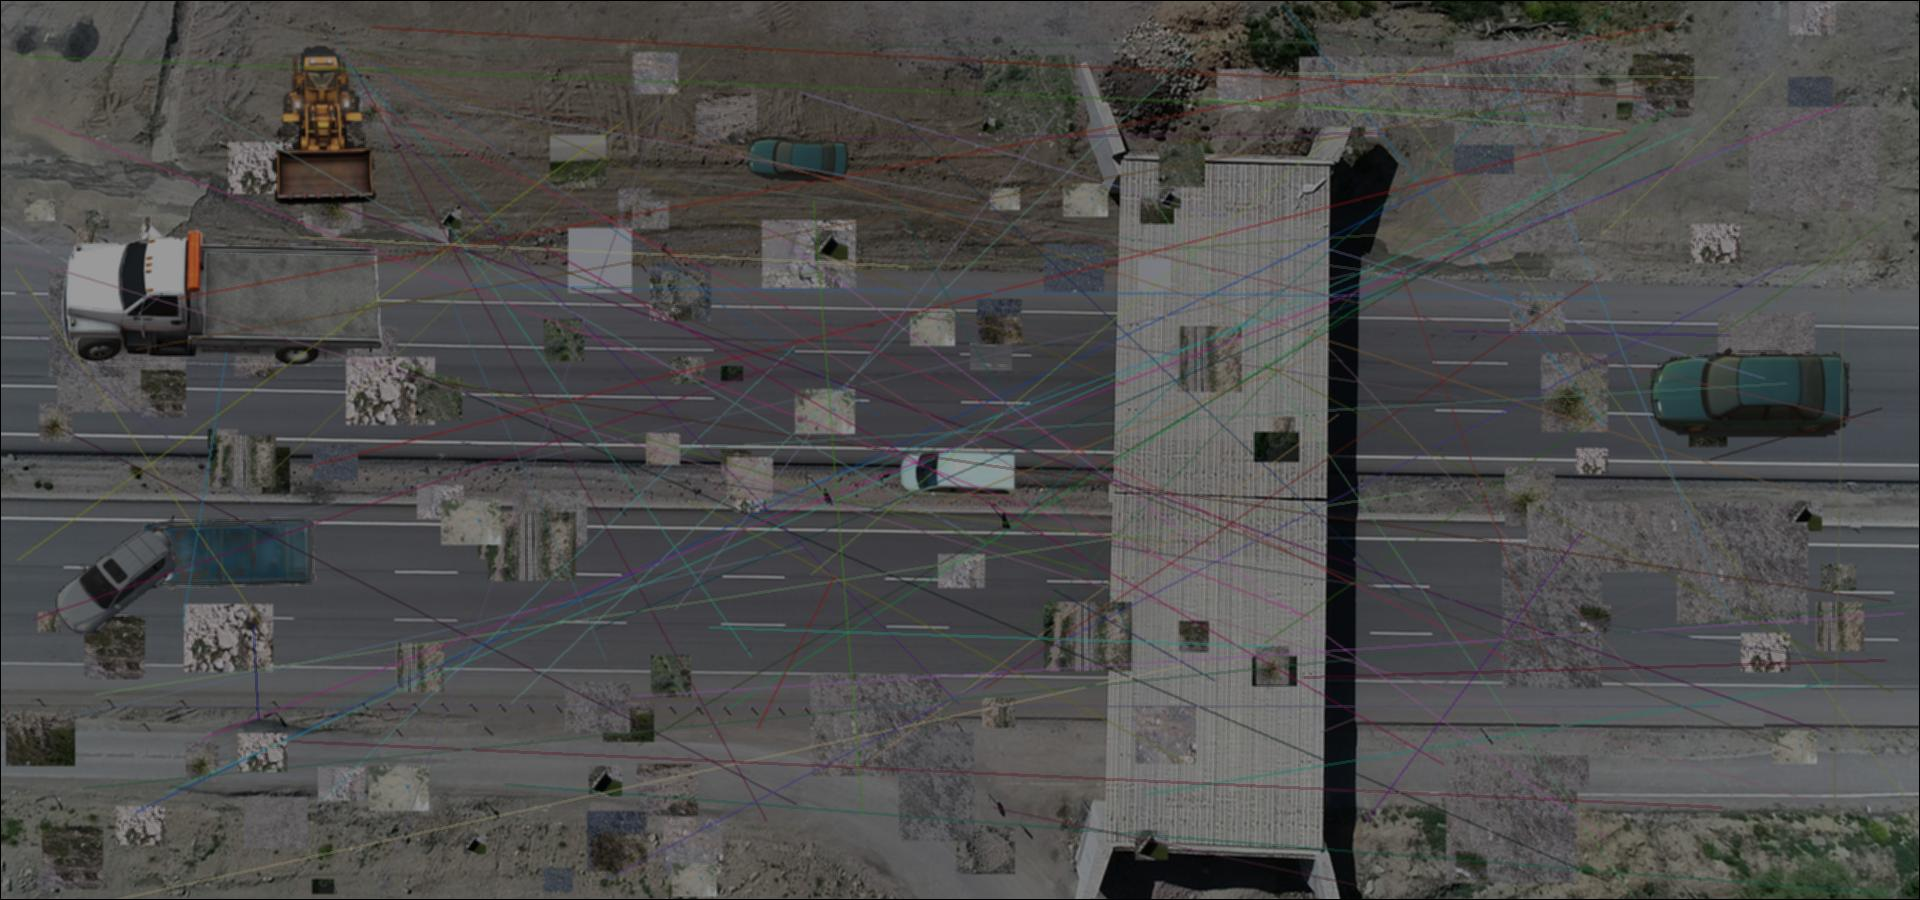arac: (62, 217, 386, 366), (1649, 348, 1860, 437), (269, 43, 380, 211), (140, 516, 317, 591), (51, 531, 176, 634), (898, 448, 1021, 501), (748, 137, 853, 182)
